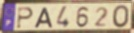2: (94, 6, 110, 28)
4: (56, 5, 71, 31)
6: (76, 6, 90, 29)
A: (34, 7, 54, 29)
O: (112, 4, 130, 29)
P: (15, 7, 34, 30)
